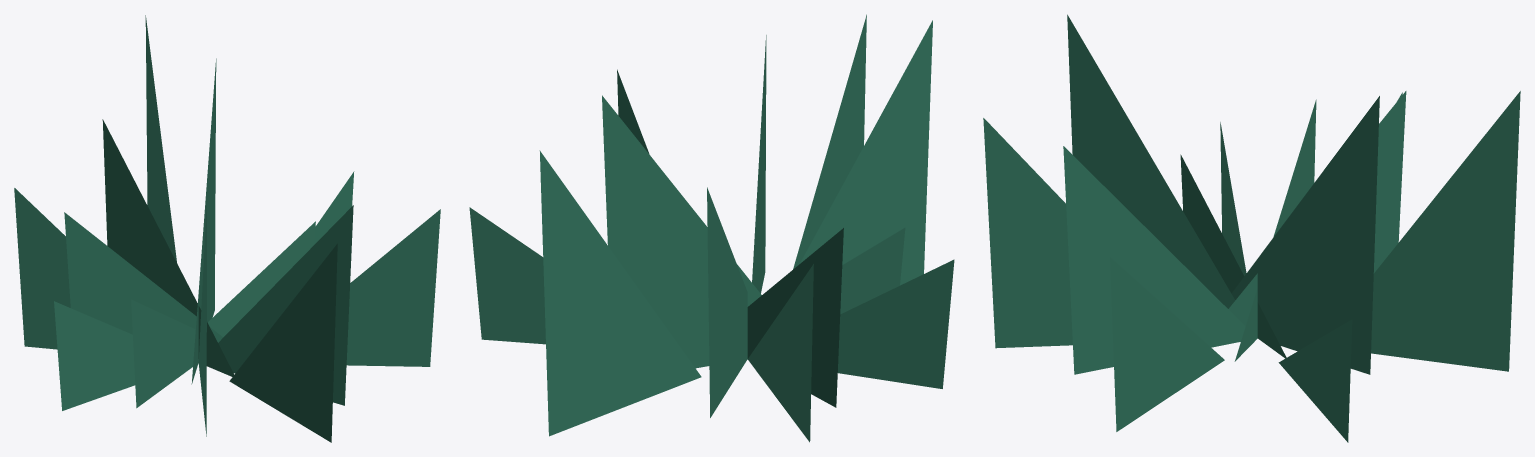
File: fern_patch.glb
3 renders of one model, left to right at view 1: azimuth 30°, elevation 25°; view 2: azimuth 150°, elevation 25°; view 3: azimuth 270°, elevation 25°, orthographic. The views are drawn at different scales.
Parts seen in each view (by area): view 1: Fern Patch; view 2: Fern Patch; view 3: Fern Patch.
Part boxes in pixels (x1,y1,x2,y2): Fern Patch: (14,15,440,442); Fern Patch: (469,14,954,442); Fern Patch: (983,14,1520,442).
Bounding box in the file's own units: 1.16 × 0.77 × 1.33.
